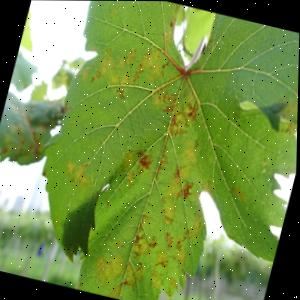Folha: (12, 0, 300, 300)
Fungo: (93, 34, 174, 111), (161, 141, 203, 220), (120, 207, 159, 289), (171, 211, 208, 271), (168, 94, 201, 141), (92, 247, 128, 287), (62, 154, 98, 193), (147, 265, 180, 298), (156, 85, 180, 122), (153, 143, 174, 183), (132, 148, 155, 175), (175, 180, 194, 202), (123, 166, 139, 188), (185, 99, 200, 120), (137, 151, 153, 170), (162, 229, 176, 250), (155, 251, 170, 268), (114, 85, 128, 100), (148, 233, 160, 249), (101, 180, 111, 193)
